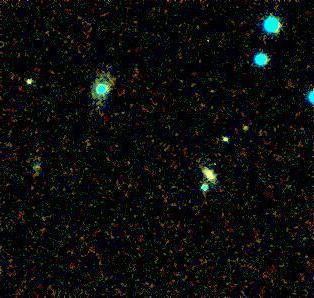star: (231, 113, 261, 143)
